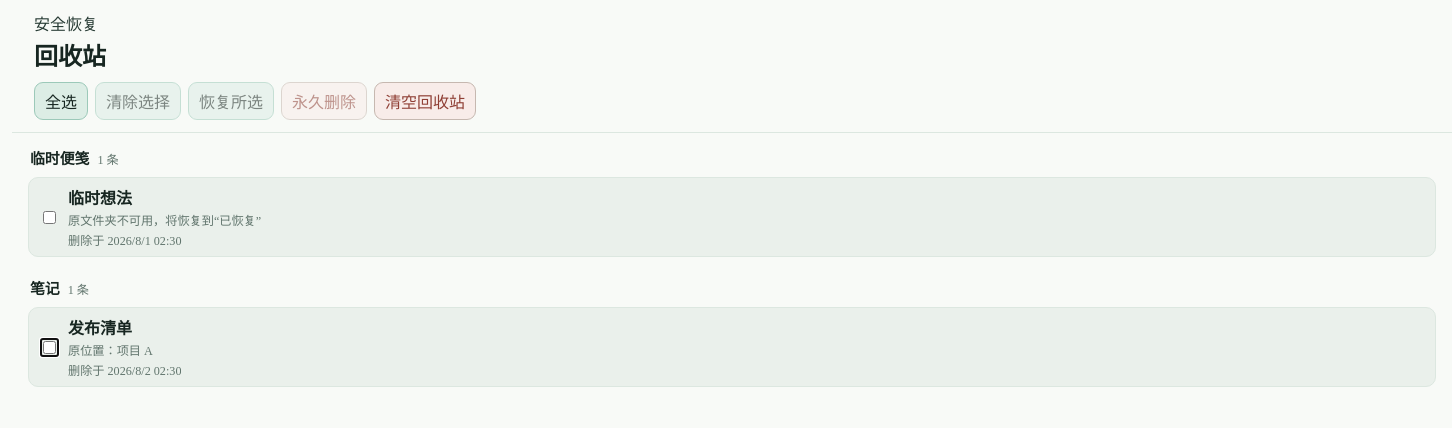
Test: TrashView › supports keyboard selection and preserves failed entries with an actionable error
Type keys " "
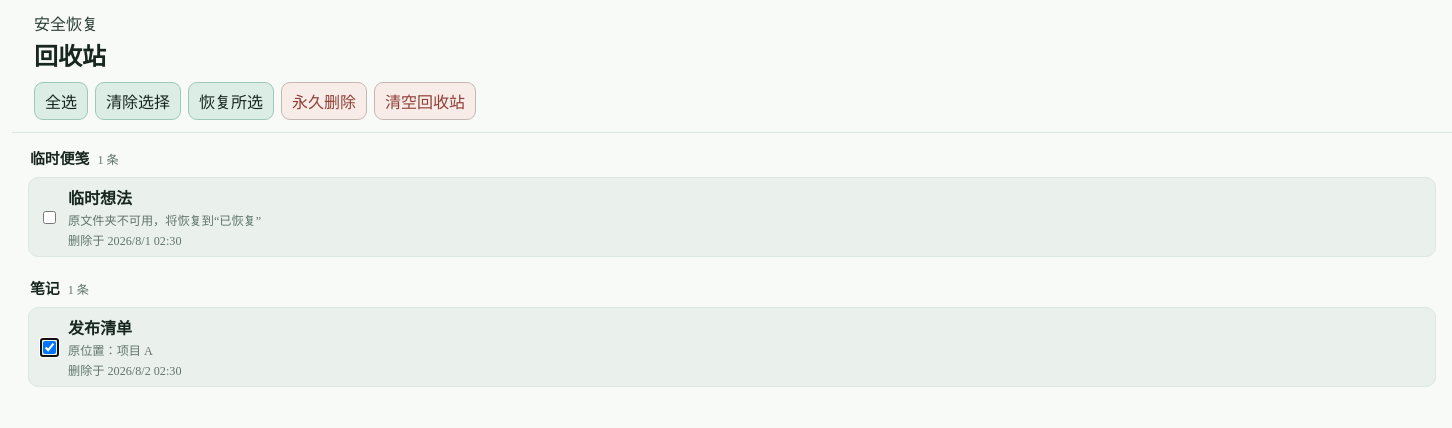
Expected: the checkbox named "选择 发布清单" is checked, [43, 340, 56, 354]
Click the button "恢复所选": x=231, y=101 [188, 82, 274, 120]
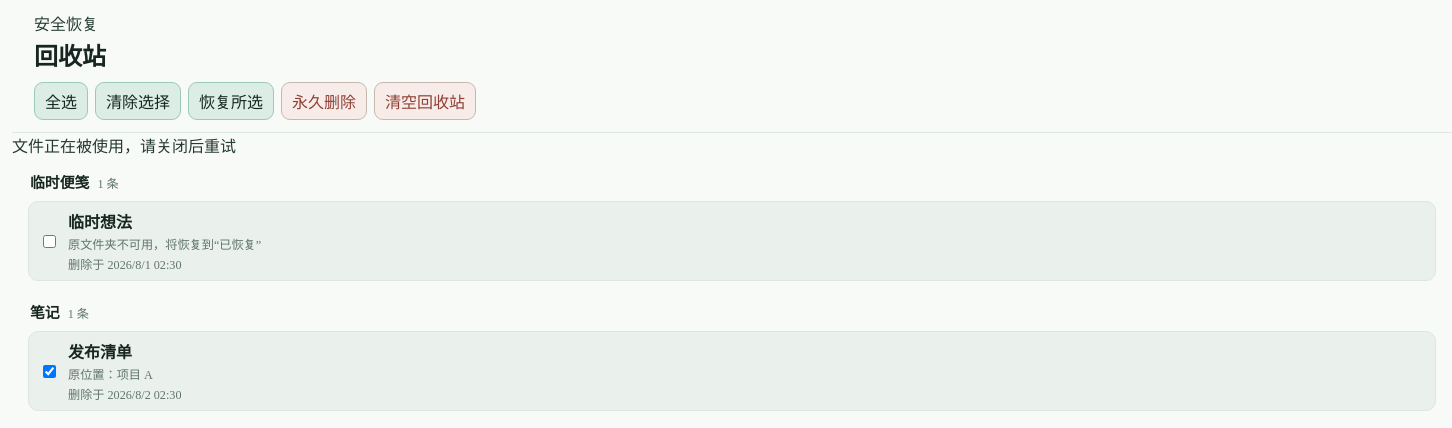
Expected: the checkbox named "选择 发布清单" is shown, [43, 364, 56, 378]
Expected: the button "恢复所选" is enabled, [188, 82, 274, 120]
Expected: the message reads "文件正在被使用，请关闭后重试", [12, 138, 236, 155]
